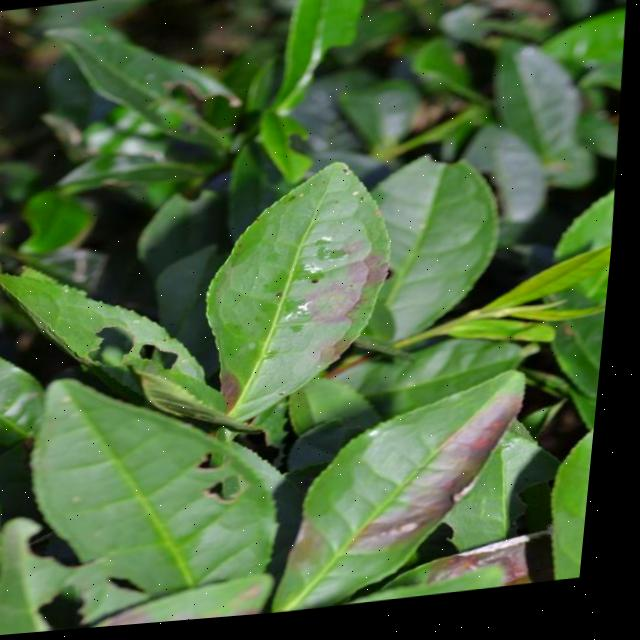Tea exobasidium blight: (326, 394, 555, 573), (289, 239, 408, 369)
